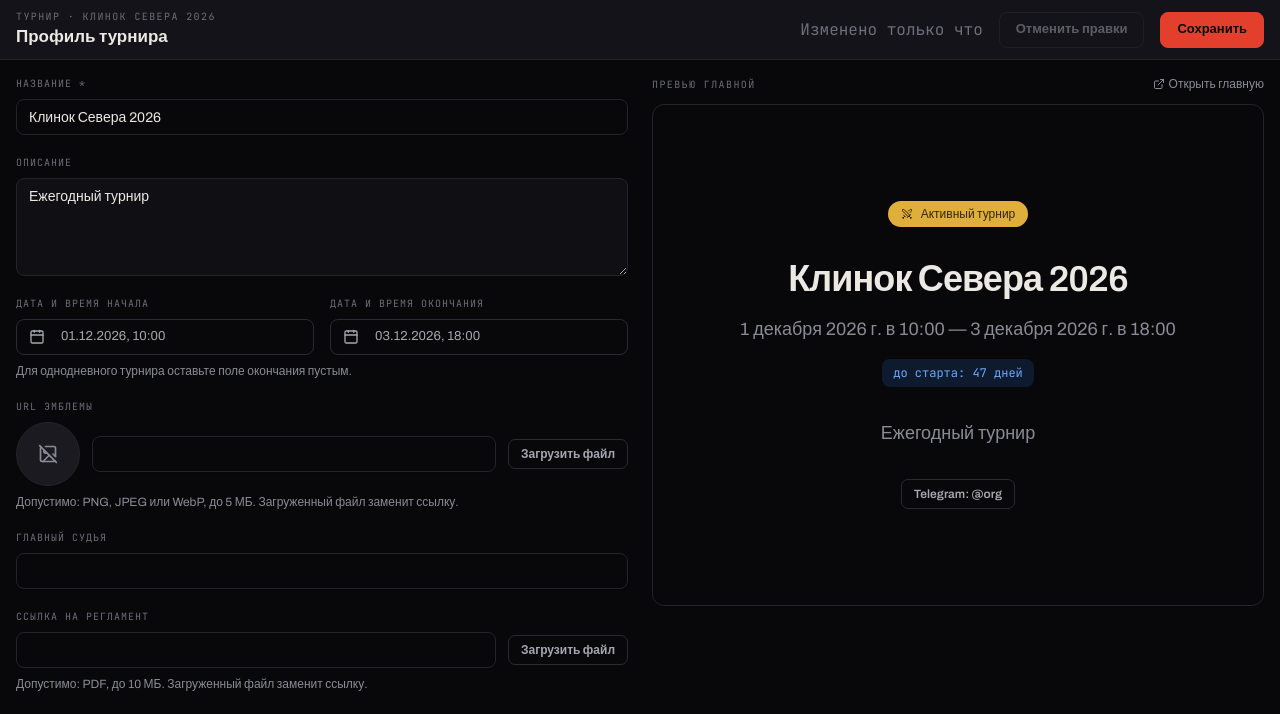
Test case: TournamentScreen (spec 0029) › shows the unsaved-changes bar once a field is edited (AC-4)
This screenshot has width=1280, height=714.
Expected: the text "Несохранённые изменения" is not shown
Replace the text in the field labelled "Название *" with "Новое название". click: [322, 117]
box: [16,99,628,135]
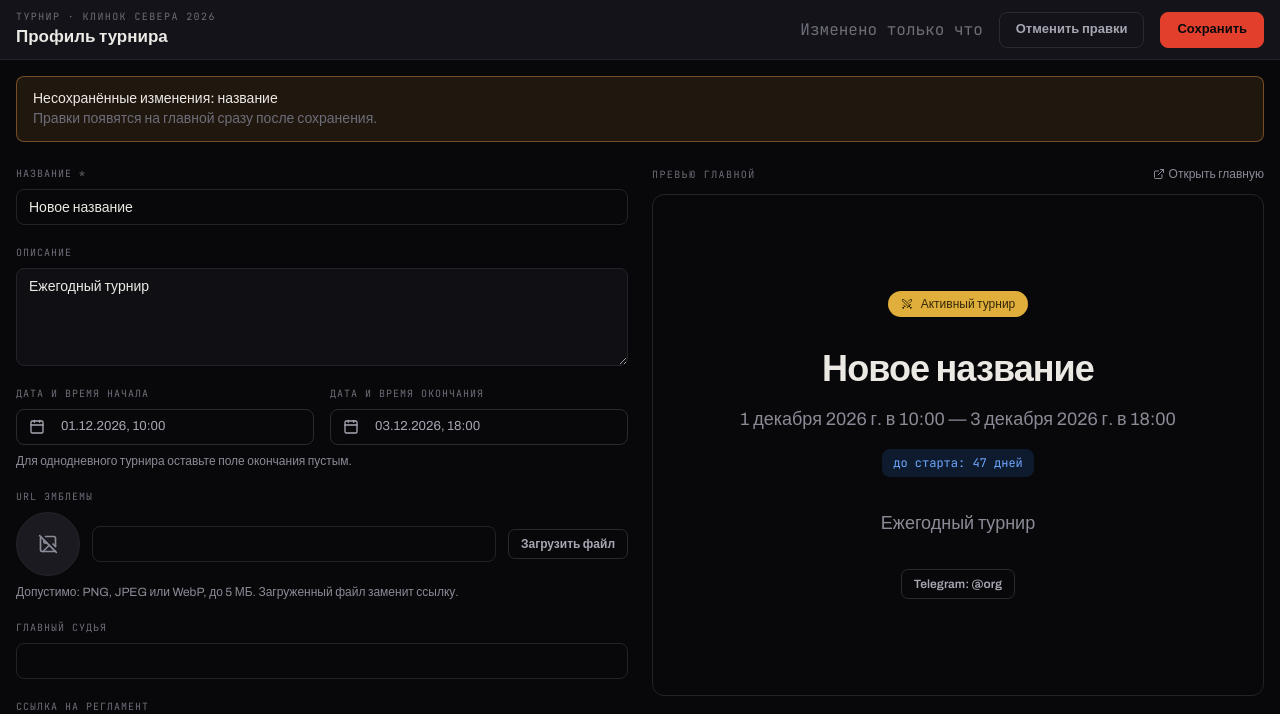
Result: the text "Несохранённые изменения: название" is shown at [33,91,278,106]
